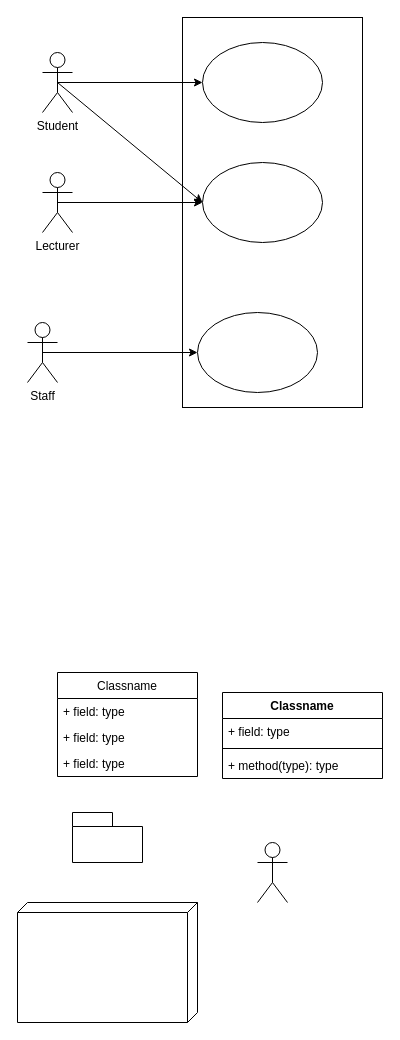
The diagram is 400 pixels wide and 1040 high, and some of its shapes have lost their labels. Here are the shapes that lost their labels. From the top down, the centre of each, then its label:
At [107,837]: "package".
At [272,872]: "Actor".
At [107,962]: "Block".
